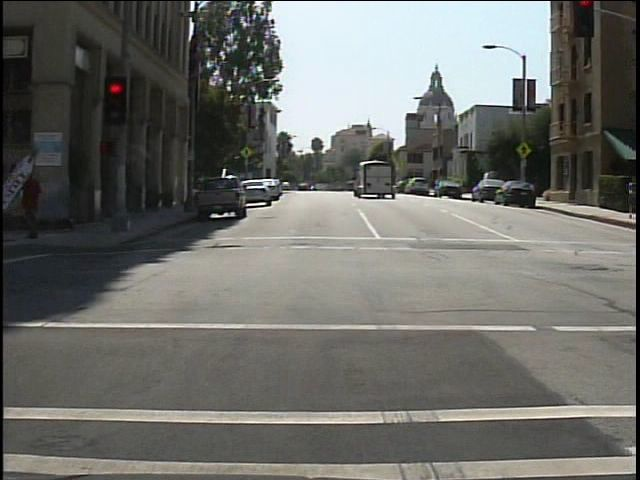person: (12, 165, 53, 244), (621, 174, 639, 221)
